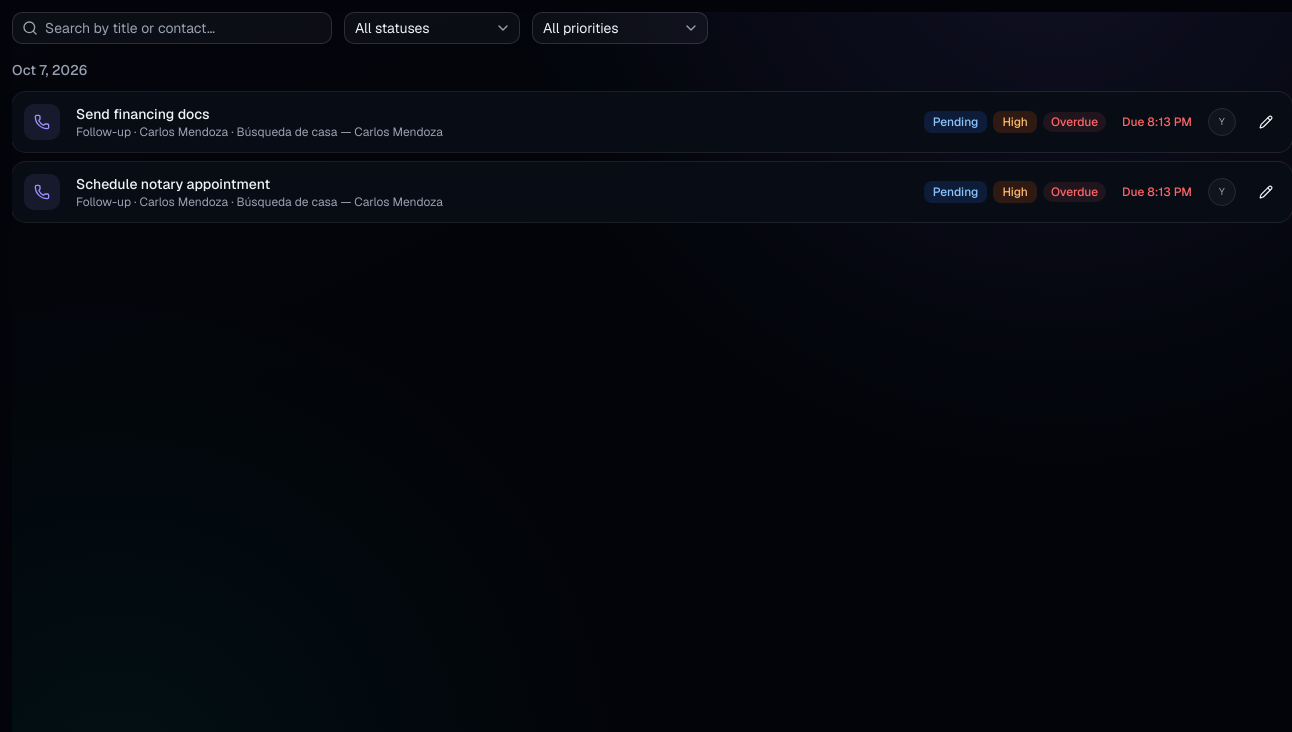
Test: TaskList › filters by search text (title)
Check: the text "Send financing docs" is shown, box [76,105,209,123]
In the field with placeholder "Search by title or contact…": point(172, 28) [12,12,332,44], type "notary"
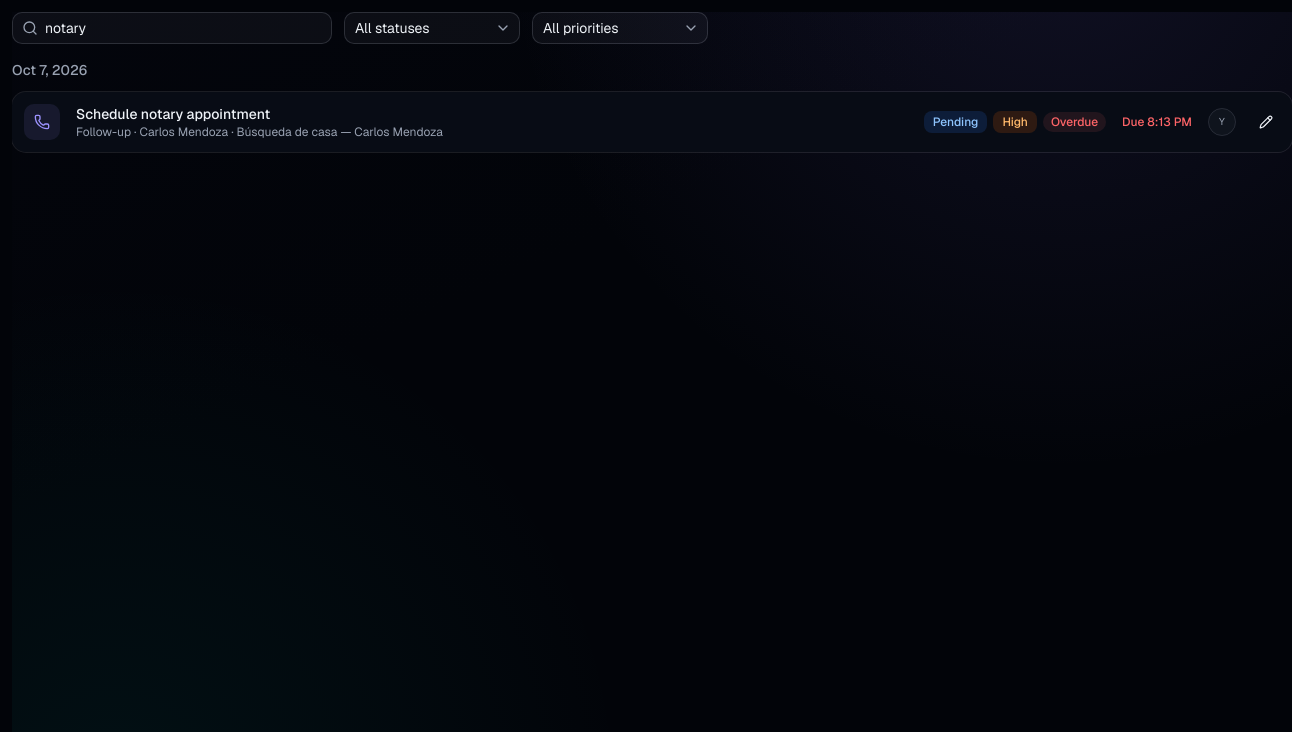
Check: the text "Schedule notary appointment" is shown, box [76,105,270,123]
Check: the text "Send financing docs" is gone
